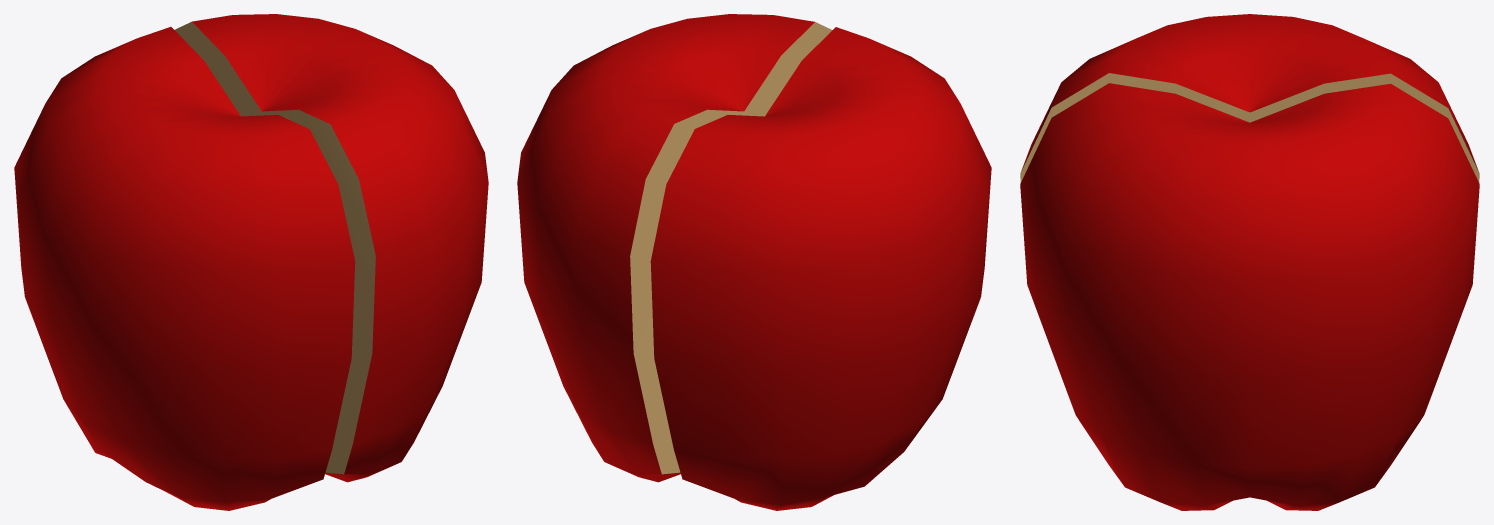
Rendered from mesh_apple_cut01.fbx.
3 renders of one model, left to right at view 1: azimuth 30°, elevation 25°; view 2: azimuth 150°, elevation 25°; view 3: azimuth 270°, elevation 25°, orthographic.
Parts seen in each view (by area): view 1: mesh_apple_cut01_slice02, mesh_apple_cut01_slice01; view 2: mesh_apple_cut01_slice02, mesh_apple_cut01_slice01; view 3: mesh_apple_cut01_slice01, mesh_apple_cut01_slice02.
Part boxes in pixels (<box>): mesh_apple_cut01_slice02: <box>14,27,355,510</box>; mesh_apple_cut01_slice01: <box>175,14,488,482</box>; mesh_apple_cut01_slice02: <box>650,27,991,510</box>; mesh_apple_cut01_slice01: <box>517,14,832,482</box>; mesh_apple_cut01_slice01: <box>1020,83,1479,510</box>; mesh_apple_cut01_slice02: <box>1020,14,1479,182</box>.
Bounding box in the file's own units: 0.1605 × 0.1419 × 0.1525.
